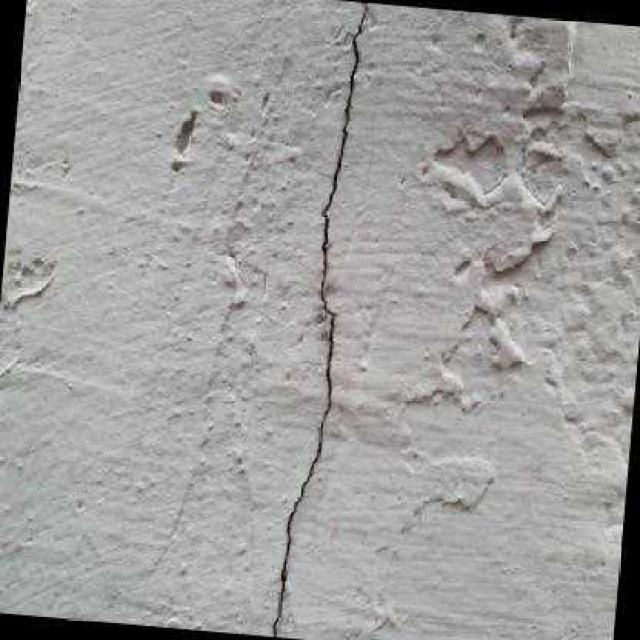D00: (273, 3, 369, 637)
